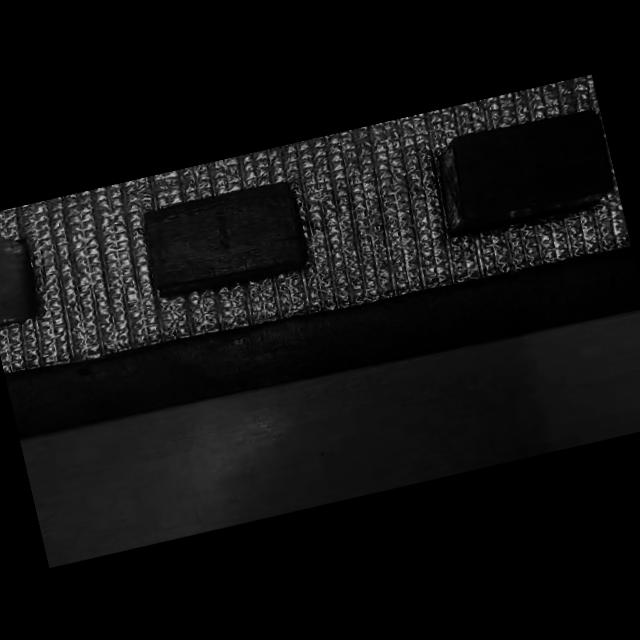rcube: (429, 101, 621, 241)
ycube: (138, 176, 314, 297)
